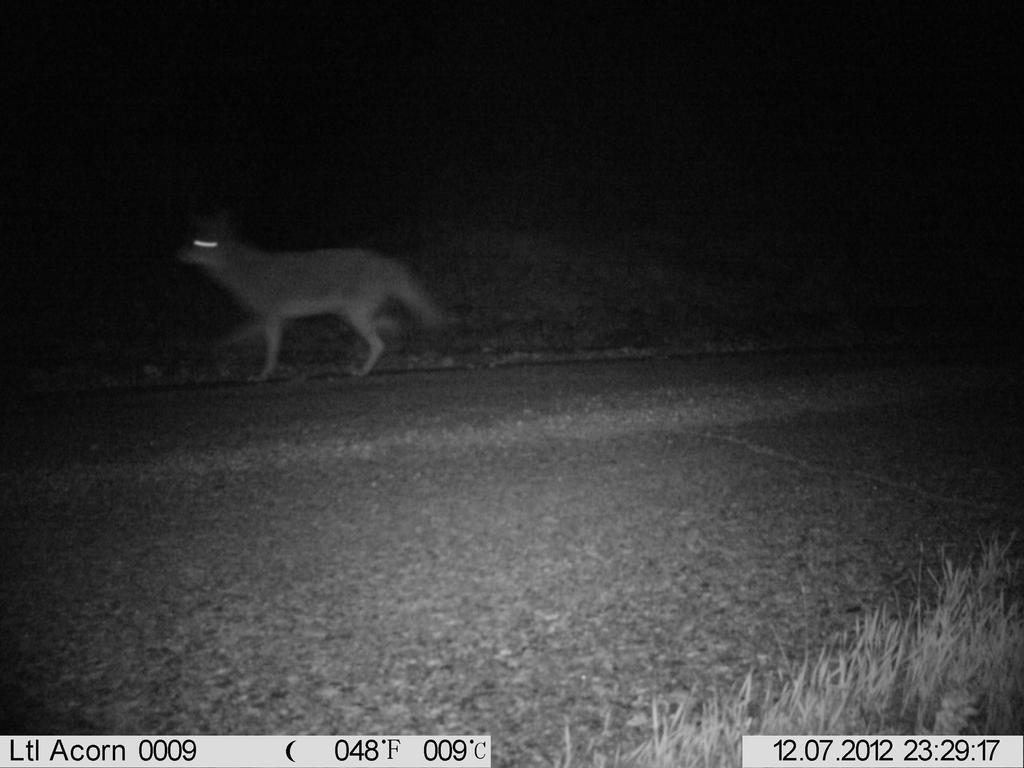coyote: (153, 200, 453, 389)
